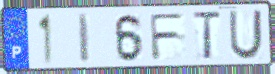1: (37, 12, 55, 66)
6: (113, 13, 145, 63)
F: (147, 12, 187, 63)
I: (77, 12, 92, 65)
T: (190, 10, 223, 62)
U: (228, 9, 264, 62)
